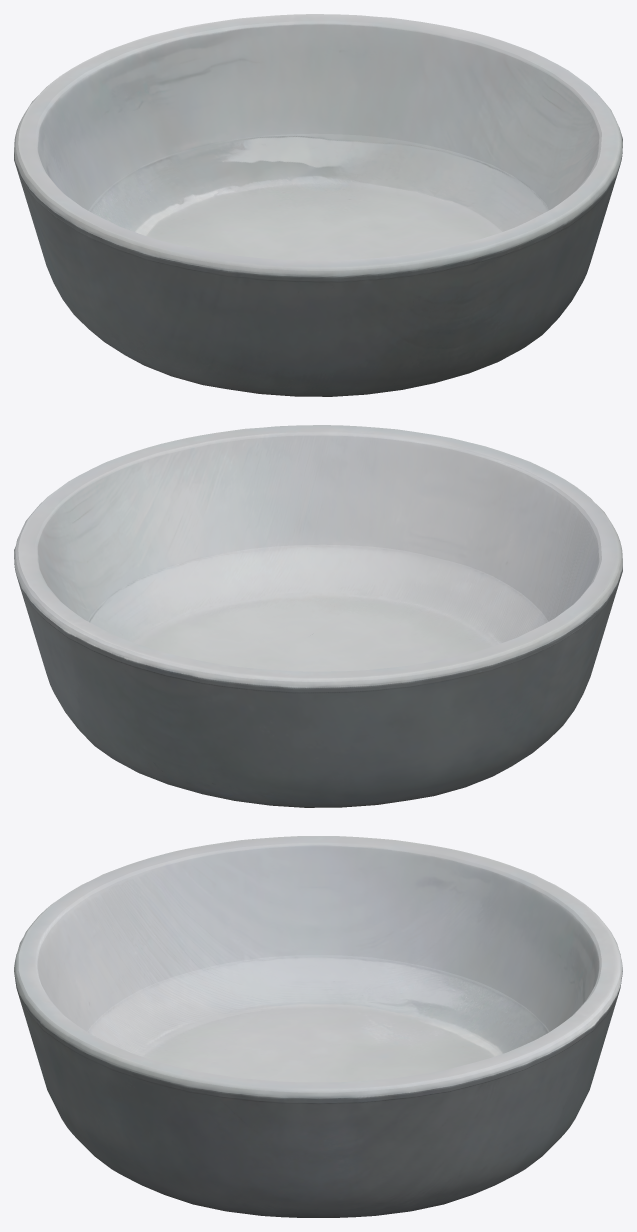
3 views of the same model, one above another, from view 1: azimuth 30°, elevation 25°; view 2: azimuth 150°, elevation 25°; view 3: azimuth 270°, elevation 25° (orthographic).
Visible parts, largest first — view 1: model; view 2: model; view 3: model.
Boxes of the visible parts, x1,y1,x2,y2 form: model: (14,14,622,396); model: (14,425,622,807); model: (14,836,622,1217).
Bounding box in the file's own units: 1.9 × 0.5566 × 1.9.
1 material, 1 textured.
